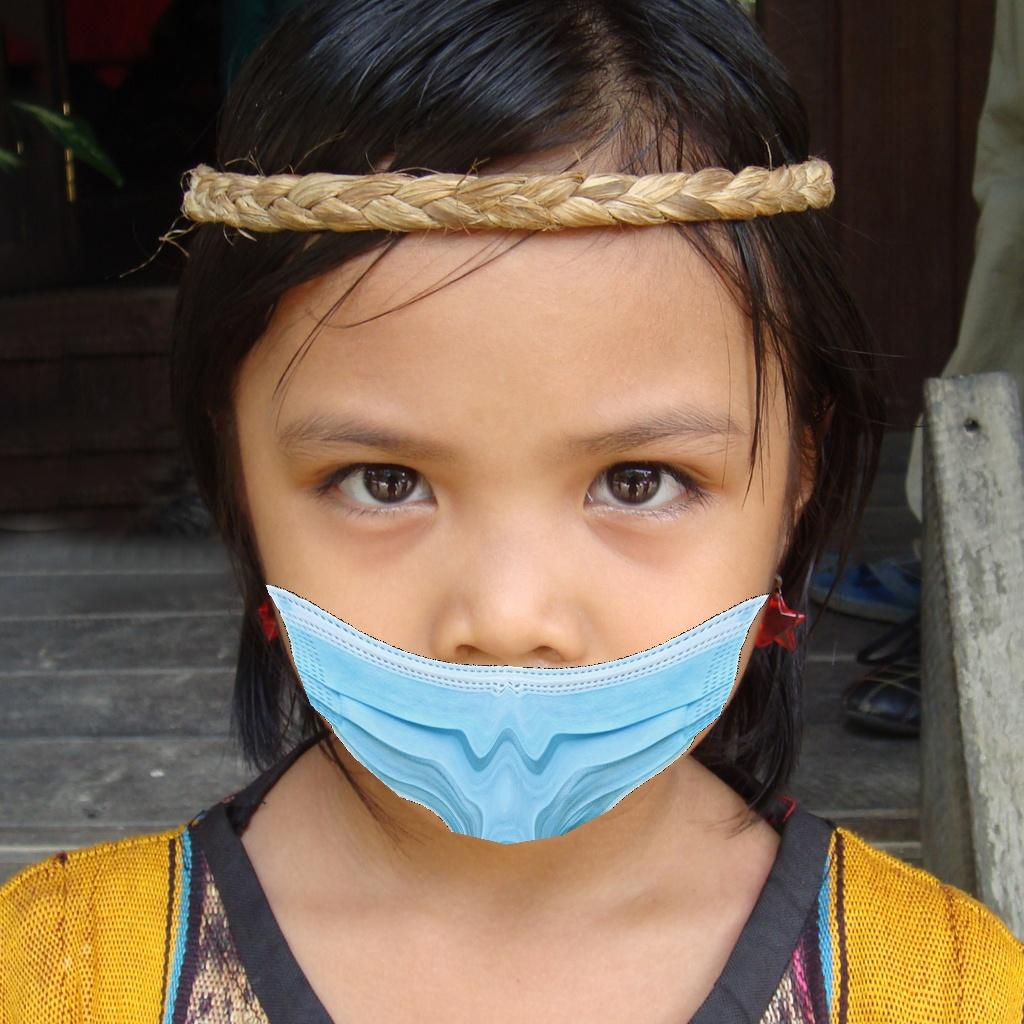Máscara Incorreta: (262, 272, 800, 826)
